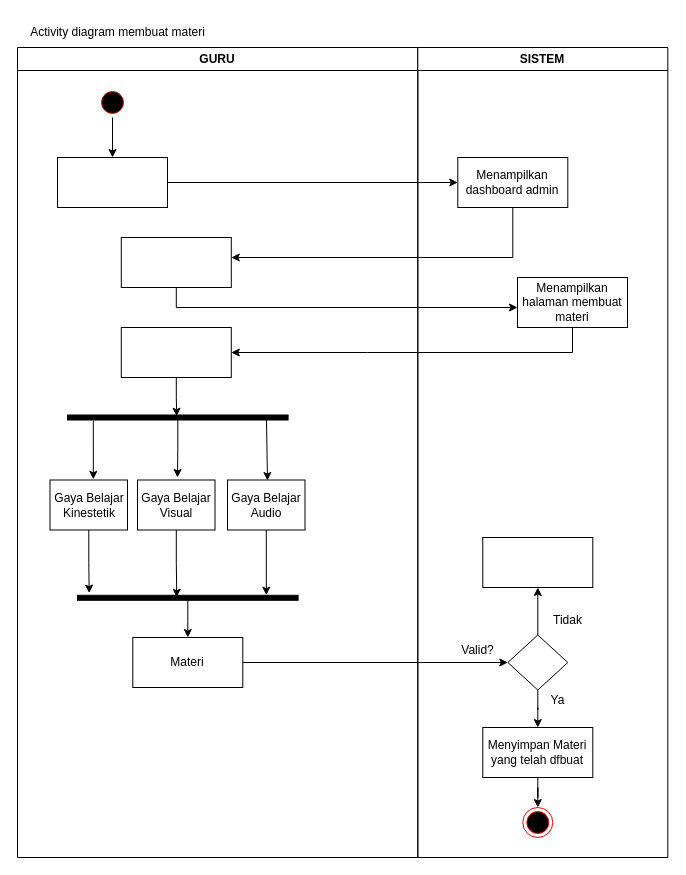
This 686x875 diagram has some shape labels left out. The shapes that lost their labels are listed below. From the top down, each one's centre as x and y in pixels, then its label:
At point (112, 182): "Login ke dashboard admin".
At point (175, 262): "Memilih halaman membuat materi".
At point (175, 352): "Membuat materi sesuai gaya belajar".
At point (537, 562): "Menampilkan pesan eror".
